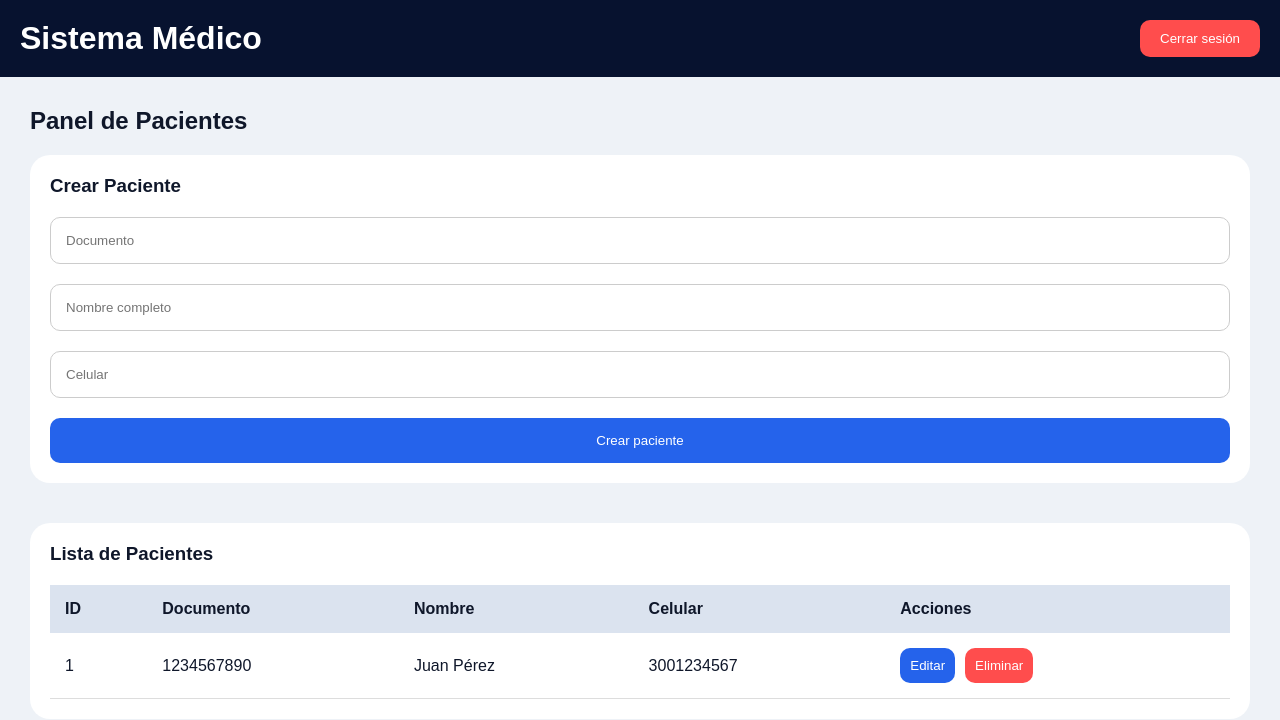
Prueba de Componentes - Panel de Pacientes › cierra sesión y vuelve al login
Check: the heading "Panel de Pacientes" is shown, box [30,107,248,134]
Click the button "Cerrar sesión".
click(1200, 38)  # box [1140,20,1260,57]
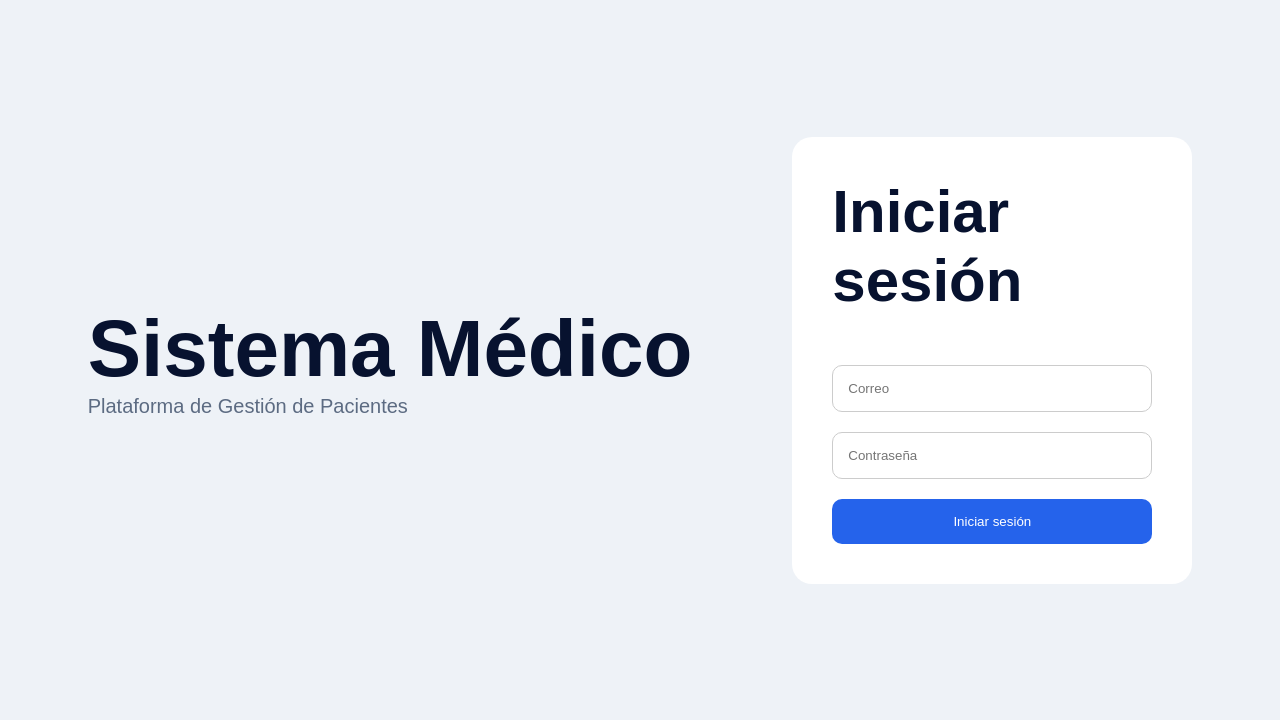
Check: the field with placeholder "Correo" is shown, box [832,364,1152,412]
